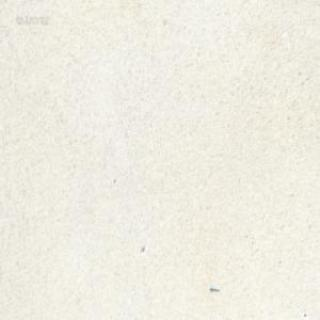Nailtrack_idkeyframe: (208, 284, 219, 290)
